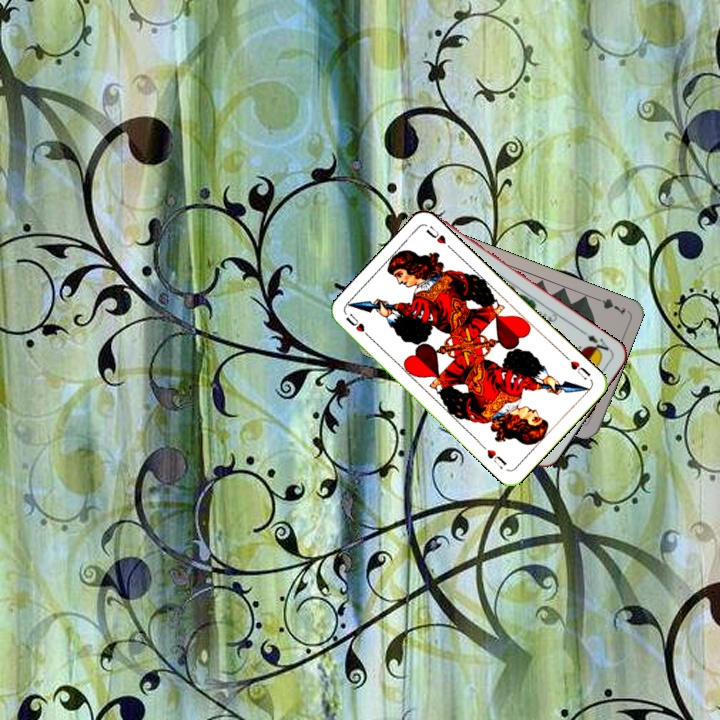EA: (578, 327, 614, 357)
G7: (589, 293, 629, 318)
HU: (342, 309, 374, 342), (561, 352, 593, 383)
